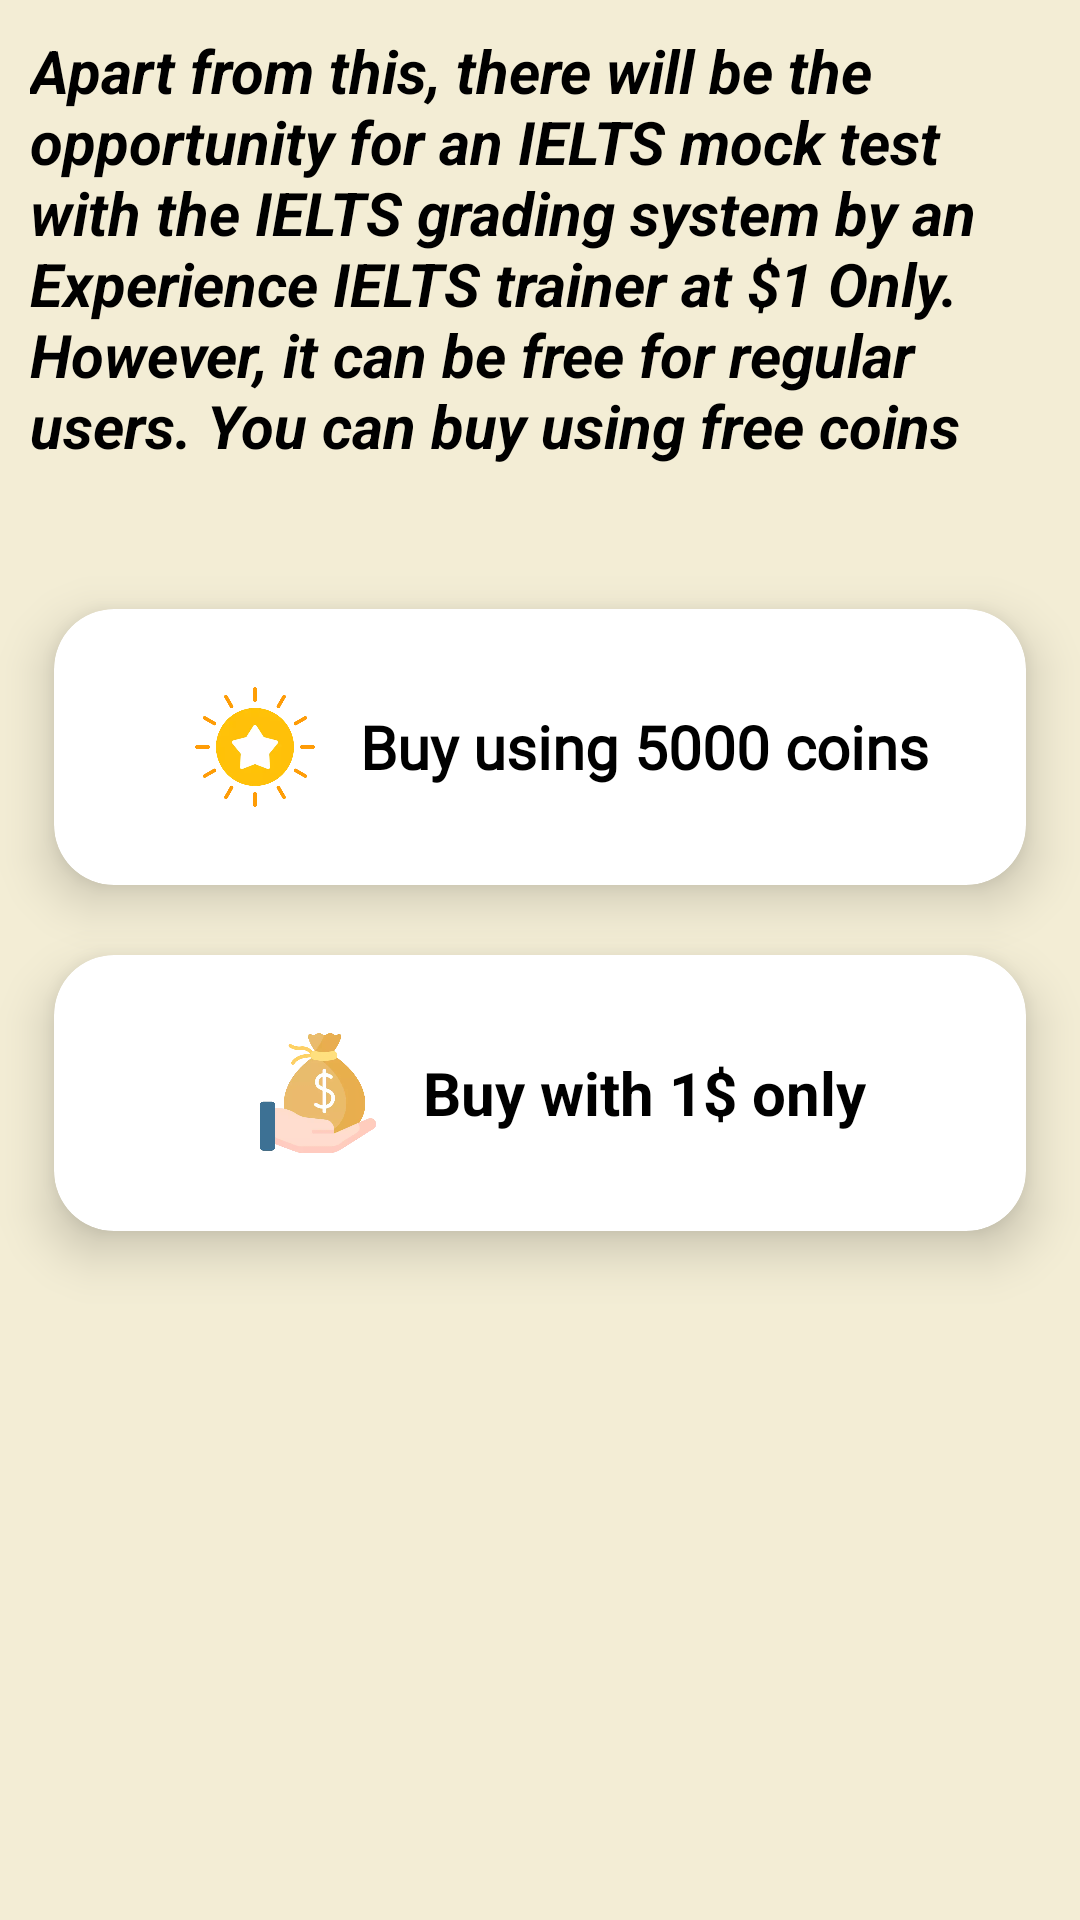

Locate icon controls on the screen. Image size 1080 × 1920, boxes as (x1, y1, x2, y2).
reward: (195, 687, 315, 807)
salary: (260, 1033, 376, 1153)
